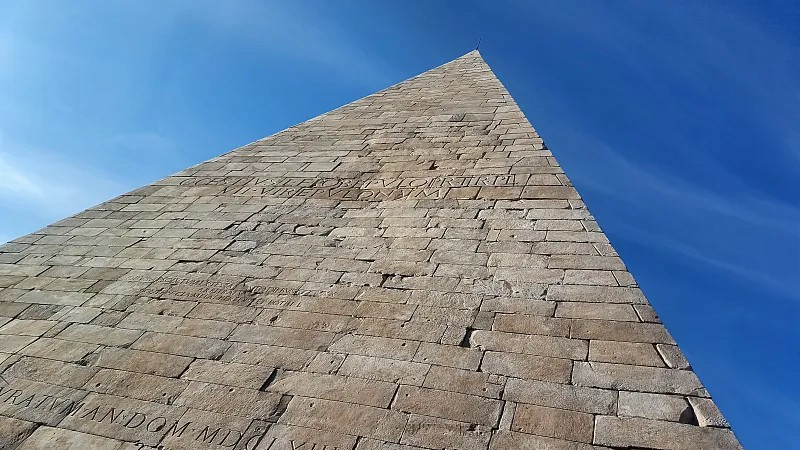Pyramid: (1, 50, 742, 450)
